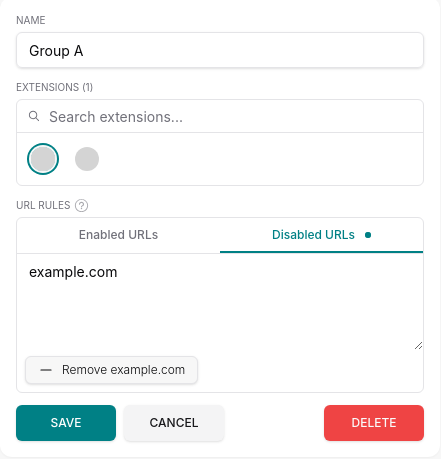
Test case: GroupRules › add current page domain › removes the domain when the Remove button is clicked, swapping back to Add
Expected: the button "Save" is shown, [16,405,116,441]
Click the button "Remove example.com".
click(112, 370)  # box [25,356,198,384]
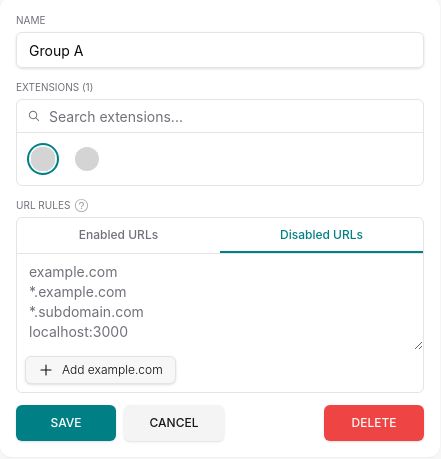
Expected: the text box named "disabledUrls" is empty, [17,254,423,350]
Expected: the button "Add example.com" is shown, [25,356,176,384]
